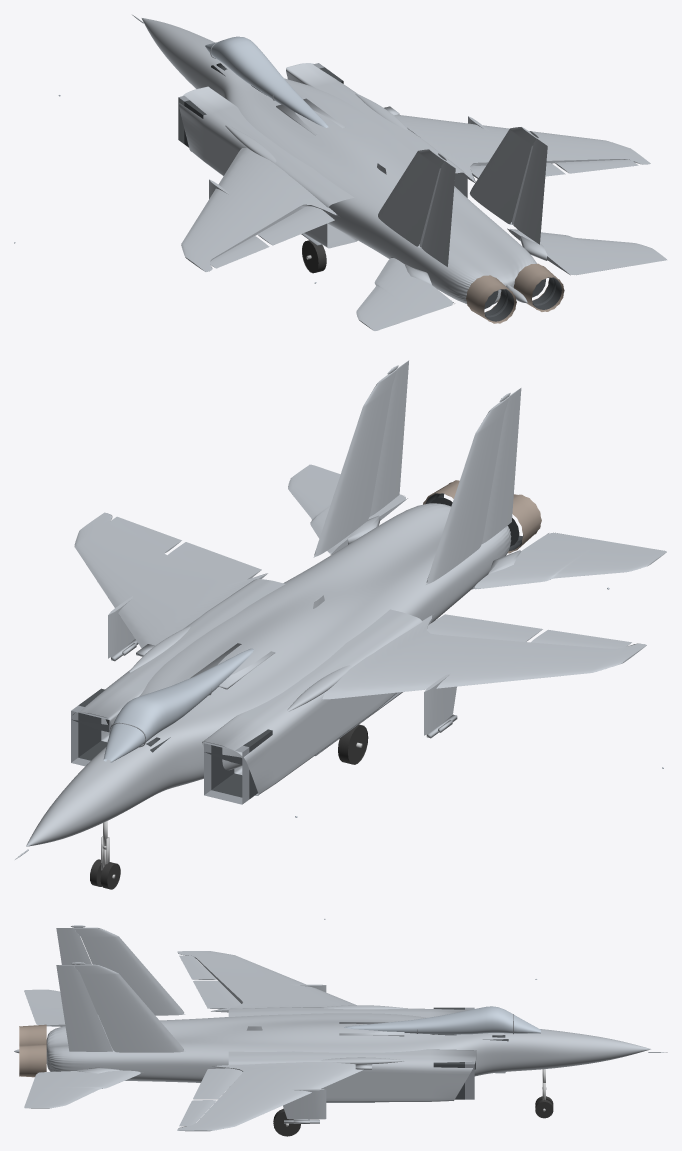
The picture shows the model from 3 angles, top to bottom: view 1: azimuth 30°, elevation 25°; view 2: azimuth 150°, elevation 25°; view 3: azimuth 270°, elevation 25°; orthographic projection. The views are drawn at different scales.
Parts seen in each view (by area): view 1: fuselage, wing_L, intake_L, wing_R, stab_L, fin_L, fin_R, stab_R, canopy, intake_R, rud_L, rud_R (+8 smaller); view 2: fuselage, intake_L, wing_L, wing_R, intake_R, fin_L, fin_R, stab_L, canopy, rud_L, rud_R, stab_R (+10 smaller); view 3: fuselage, intake_R, wing_R, fin_R, wing_L, fin_L, canopy, rud_R, stab_R, intake_L, pylon_R, stab_L (+11 smaller).
Boxes of the visible parts, bbox=[...] form: fuselage: bbox=[141, 18, 536, 304]; wing_L: bbox=[181, 148, 340, 271]; intake_L: bbox=[178, 86, 357, 248]; wing_R: bbox=[394, 115, 650, 182]; stab_L: bbox=[356, 257, 454, 330]; fin_L: bbox=[377, 149, 446, 247]; fin_R: bbox=[469, 127, 538, 224]; stab_R: bbox=[507, 228, 666, 275]; canopy: bbox=[205, 36, 328, 127]; intake_R: bbox=[286, 63, 467, 197]; rud_L: bbox=[421, 161, 455, 266]; rud_R: bbox=[513, 138, 547, 244]; fuselage: bbox=[26, 503, 511, 846]; intake_L: bbox=[202, 609, 422, 804]; wing_L: bbox=[322, 613, 646, 699]; wing_R: bbox=[74, 512, 267, 648]; intake_R: bbox=[71, 578, 285, 766]; fin_L: bbox=[426, 393, 510, 584]; fin_R: bbox=[313, 365, 398, 557]; stab_L: bbox=[472, 532, 666, 589]; canopy: bbox=[103, 648, 253, 762]; rud_L: bbox=[482, 388, 521, 543]; rud_R: bbox=[369, 360, 408, 516]; stab_R: bbox=[288, 464, 407, 554]; fuselage: bbox=[14, 1005, 651, 1082]; intake_R: bbox=[228, 1049, 476, 1102]; wing_R: bbox=[177, 1062, 363, 1131]; fin_R: bbox=[71, 962, 185, 1052]; wing_L: bbox=[177, 951, 356, 1012]; fin_L: bbox=[71, 925, 185, 1015]; canopy: bbox=[344, 1006, 540, 1034]; rud_R: bbox=[56, 965, 112, 1051]; stab_R: bbox=[24, 1070, 143, 1108]; intake_L: bbox=[228, 1007, 474, 1017]; pylon_R: bbox=[283, 1089, 326, 1123]; stab_L: bbox=[24, 989, 100, 1026].
Size of the model in its own units: 16.08 by 5.83 by 20.1.
